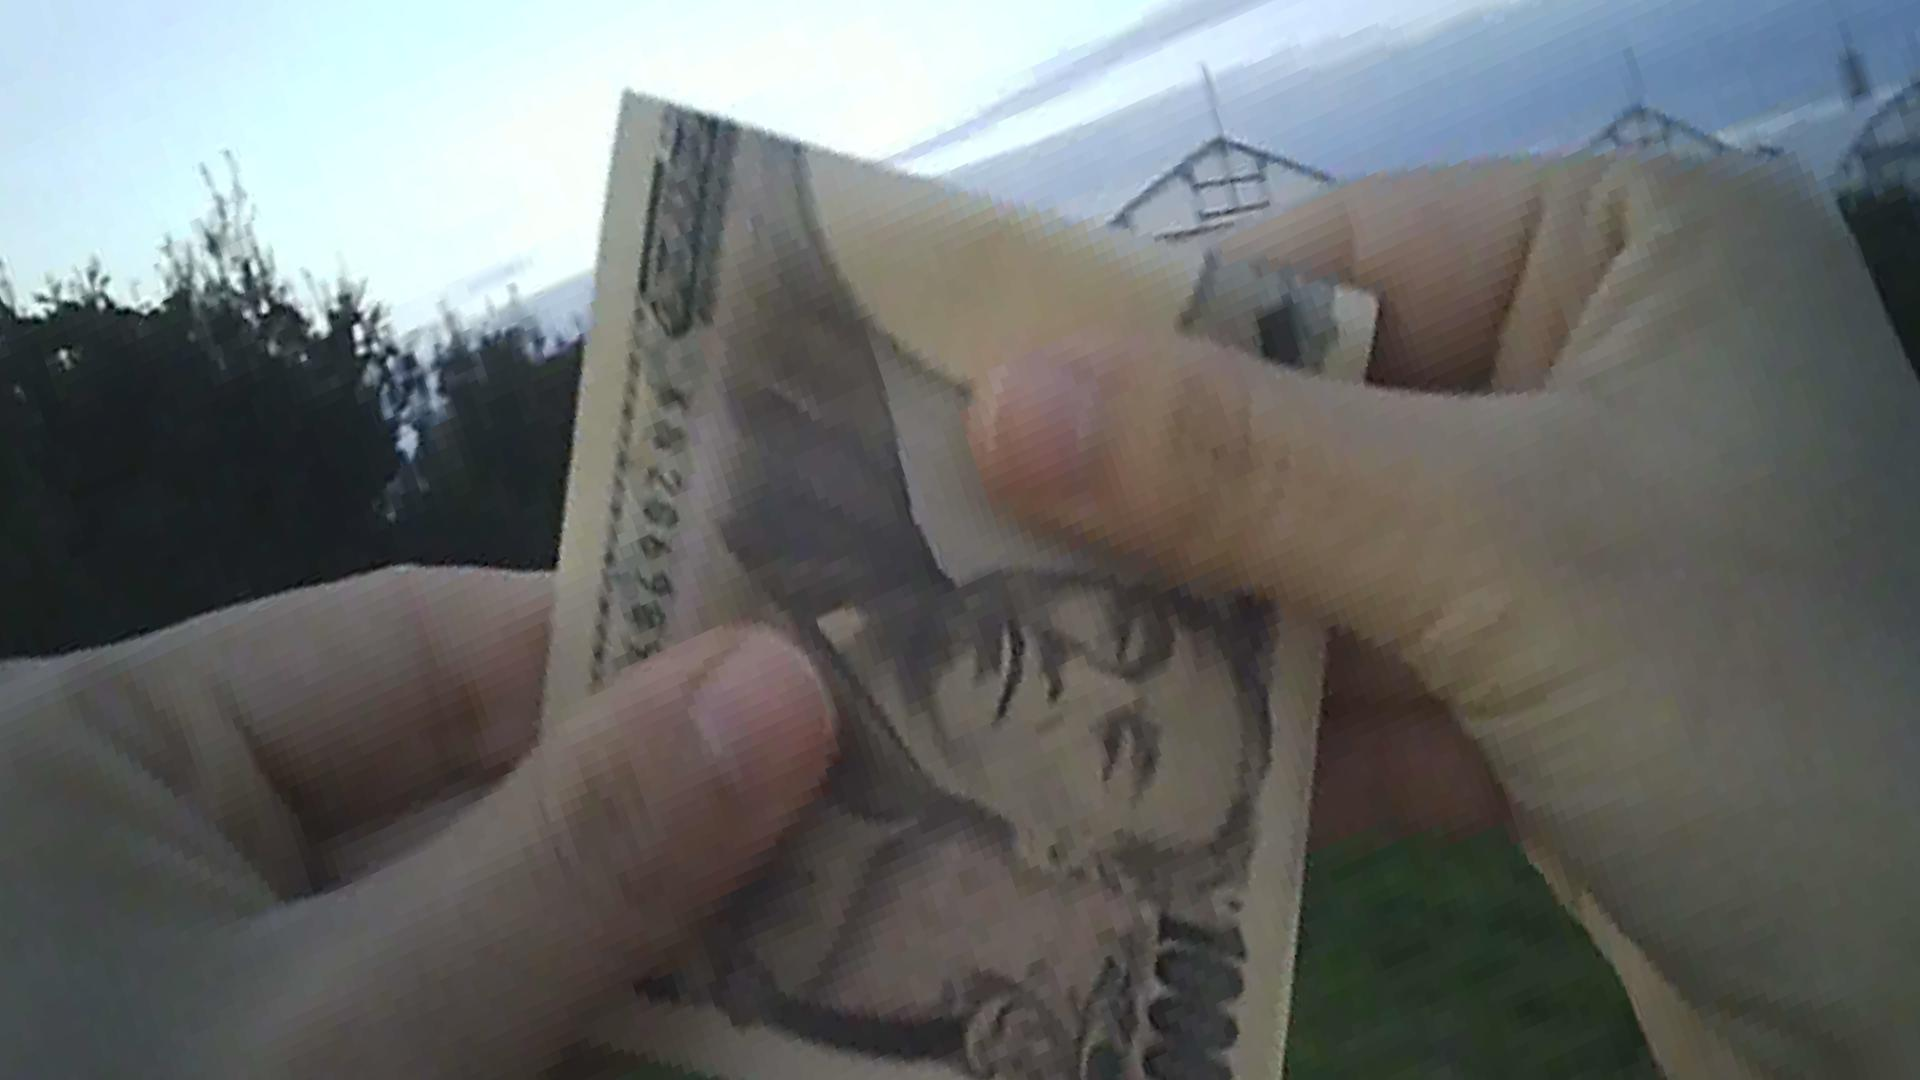10,000 Yen: (525, 62, 1280, 1079)
